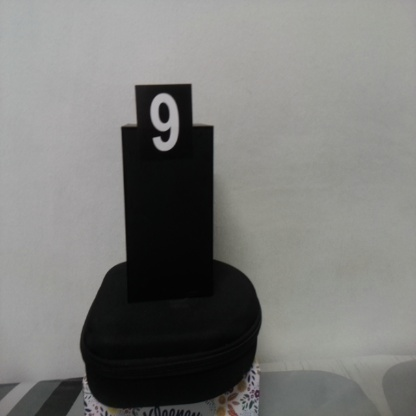id_9: (134, 86, 192, 168)
